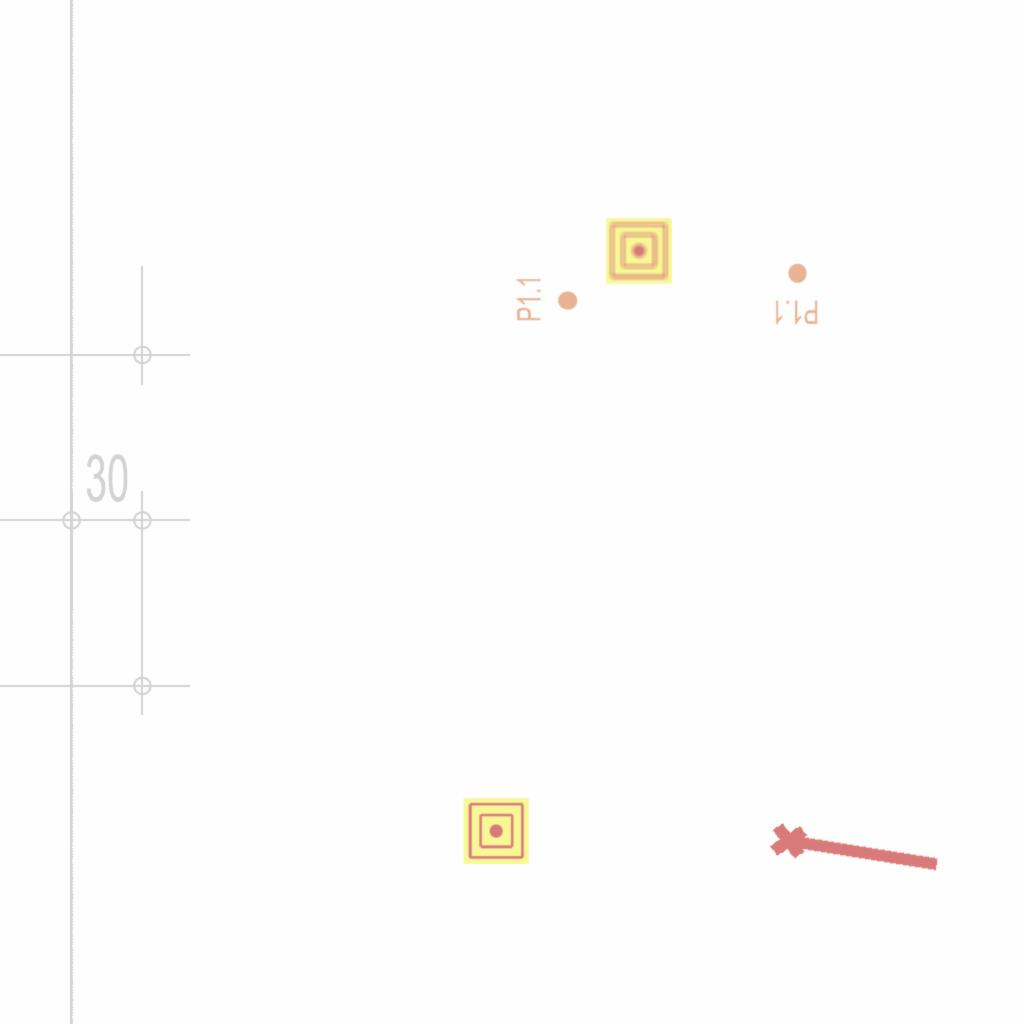ASR_Ansaugoeffnung: (765, 812, 947, 886)
Downlight_LED_Einbauleuchten_Flur: (773, 262, 819, 326), (515, 276, 579, 322)
NAM-Nichtautomatischer_Melder: (606, 218, 672, 284), (463, 798, 529, 864)
